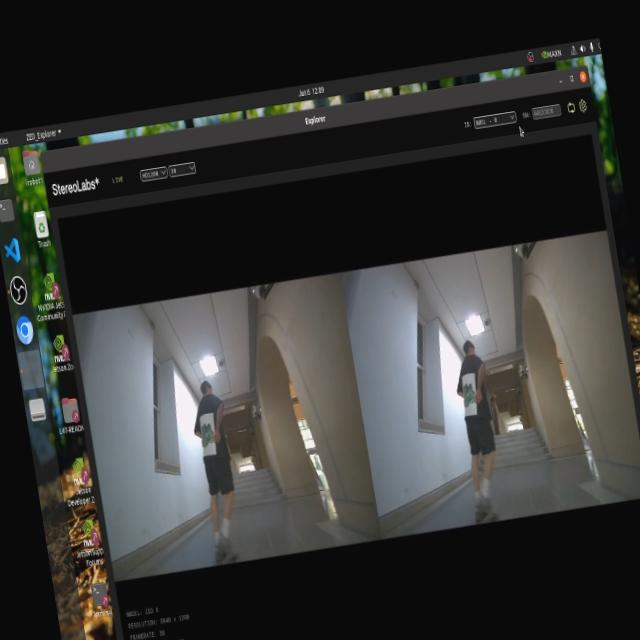green: (455, 372, 490, 416), (196, 422, 214, 456)
